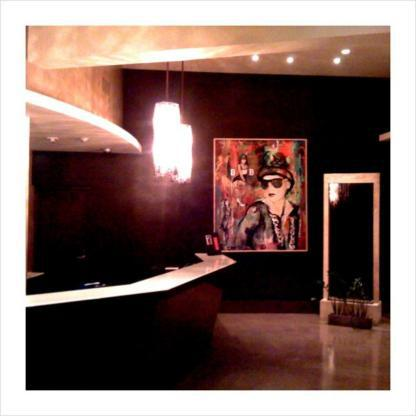Picture-frame: (213, 140, 308, 254)
